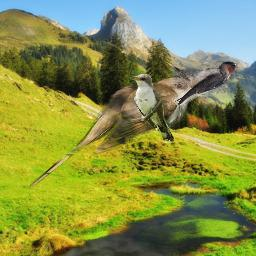Cuckoo: (30, 75, 205, 188), (130, 73, 174, 143)
Swallow: (172, 61, 240, 105)
